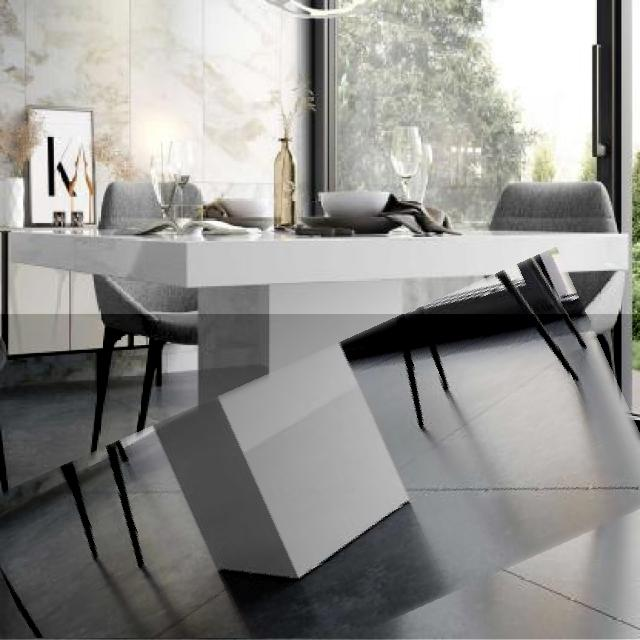floor: (0, 315, 640, 639), (19, 613, 37, 640)
